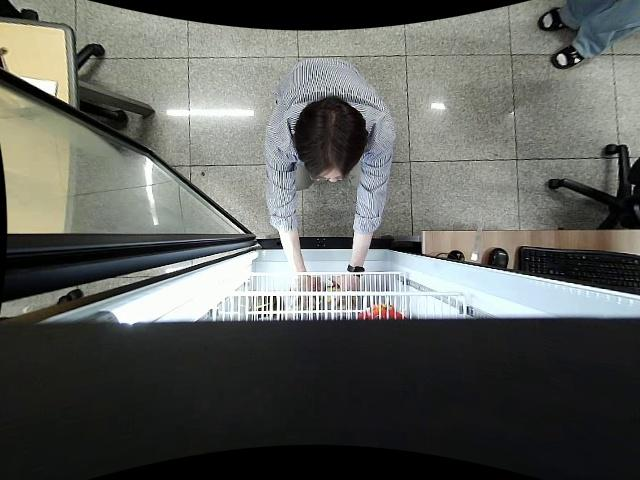00_hand: (326, 271, 368, 317), (285, 276, 329, 314)
